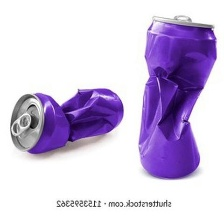can: (130, 13, 219, 184), (3, 77, 127, 154)
